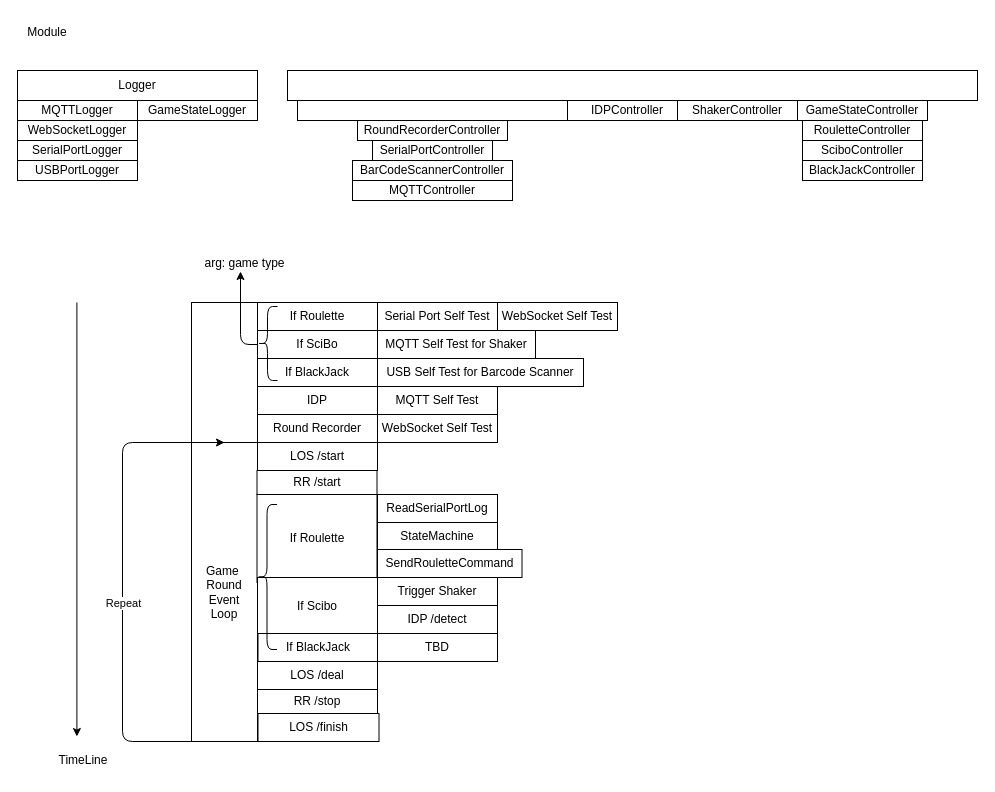
Some shapes in this 995 by 792 pixel diagram are drawn without their labels. The centre of each missing label's shape, as x and y in pixels:
Check Connection: point (224, 372)
Controller: point (632, 85)
PortController: point (432, 110)
